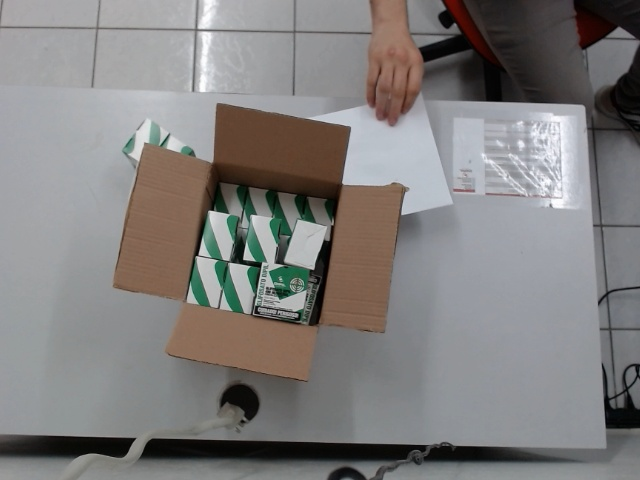divisor: (283, 89, 455, 216)
item: (254, 260, 310, 324), (217, 261, 263, 320), (123, 117, 171, 172), (183, 251, 226, 311), (244, 211, 285, 263), (201, 209, 238, 260), (273, 191, 311, 237), (286, 222, 322, 269), (212, 175, 244, 227), (242, 185, 280, 226), (305, 197, 340, 240), (160, 135, 197, 158)
